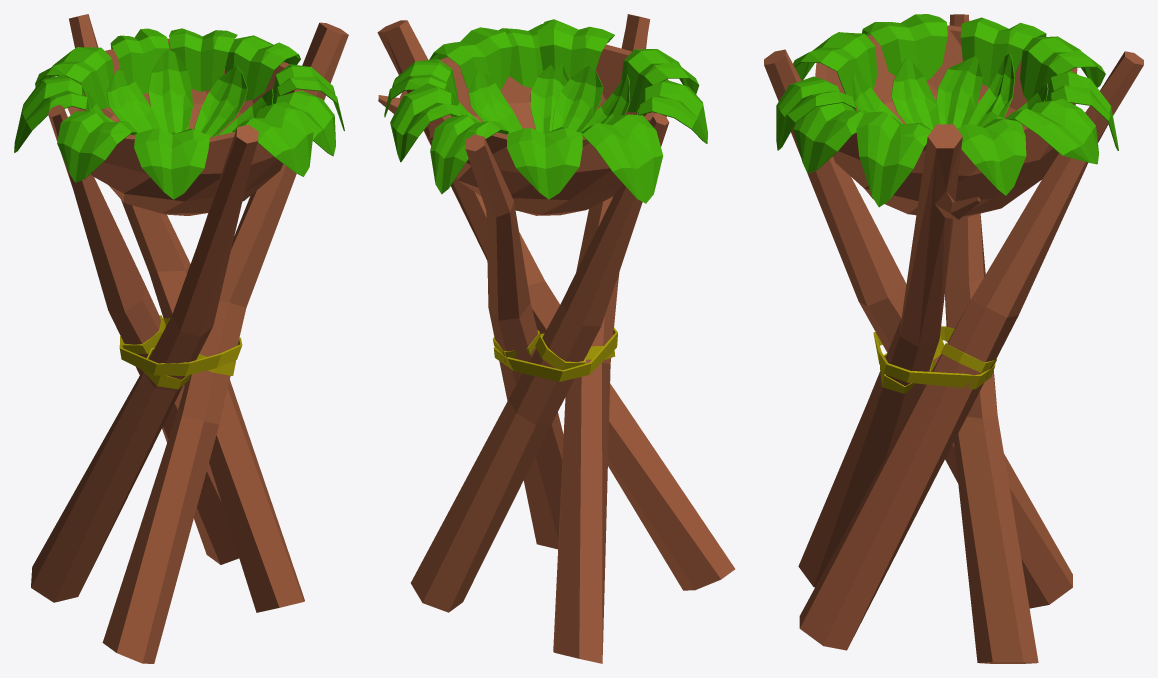
The model's file is EggFrame.fbx.
3 renders of one model, left to right at view 1: azimuth 30°, elevation 25°; view 2: azimuth 150°, elevation 25°; view 3: azimuth 270°, elevation 25°, orthographic. The views are drawn at different scales.
Parts seen in each view (by area): view 1: Frame_Egg; view 2: Frame_Egg; view 3: Frame_Egg.
Boxes of the visible parts, <box> form: Frame_Egg: <box>14,14,348,663</box>; Frame_Egg: <box>377,14,735,663</box>; Frame_Egg: <box>764,14,1143,663</box>.
Bounding box in the file's own units: 132 × 231 × 134.
